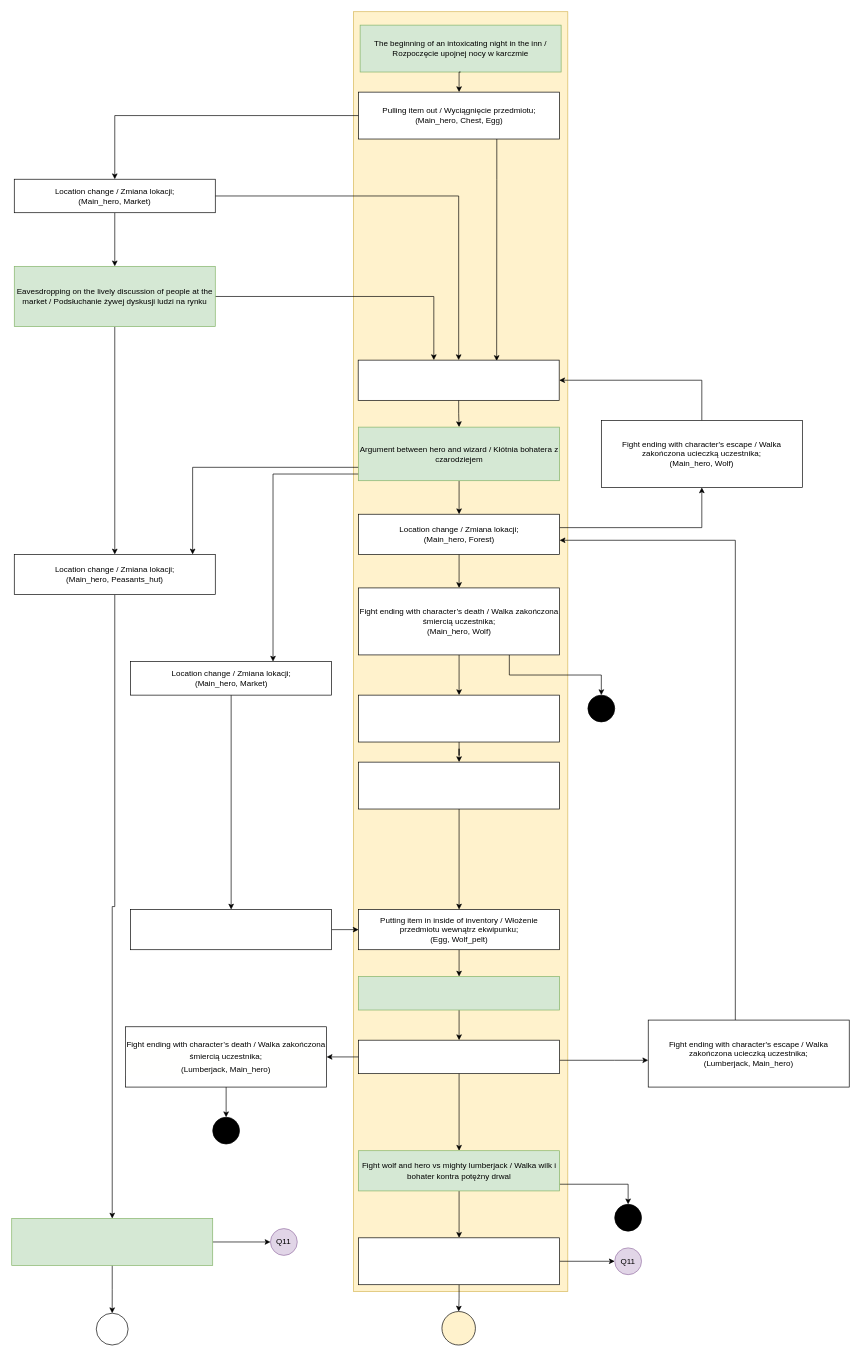
This 861x1357 diagram has some shape labels left out. The shapes that lost their labels are listed below. From the top down, each one's centre as x and y in pixels, then its label:
At (x=458, y=379): "Location change / Zmiana lokacji; (Main_hero, Wizards_hut)".
At (x=459, y=718): "Turning a dead wolf into a pelt / Zamiana martwego wilka w skórę".
At (x=459, y=785): "Picking item up / Podniesienie przedmiotu; (Main_hero, Wolf_pelt)".
At (x=231, y=929): "Making a deal / Transakcja kupna-sprzedaży; (Main_hero, Merchant, Wolf_pelt)".
At (x=459, y=993): "Spawning a helping wolf from an egg / Wyczarowanie pomocnego wilka z jajka".
At (x=459, y=1057): "Location change / Zmiana lokacji; (Main_hero, Lumberjacks_hut)".
At (x=112, y=1241): "Giving an egg-child to a poor family / Oddanie jajko-dziecka biednej rodzinie".
At (x=459, y=1261): "Picking item up / Podniesienie przedmiotu; (Main_hero, Compass)".
